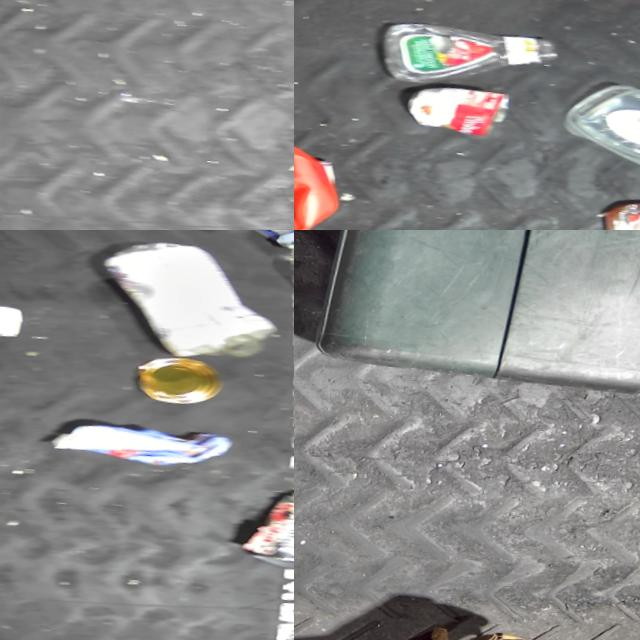can: (395, 84, 515, 150), (234, 486, 294, 591), (130, 355, 224, 419)
non_white_jug: (40, 413, 230, 489)
plastic_bottle: (363, 11, 565, 115)
